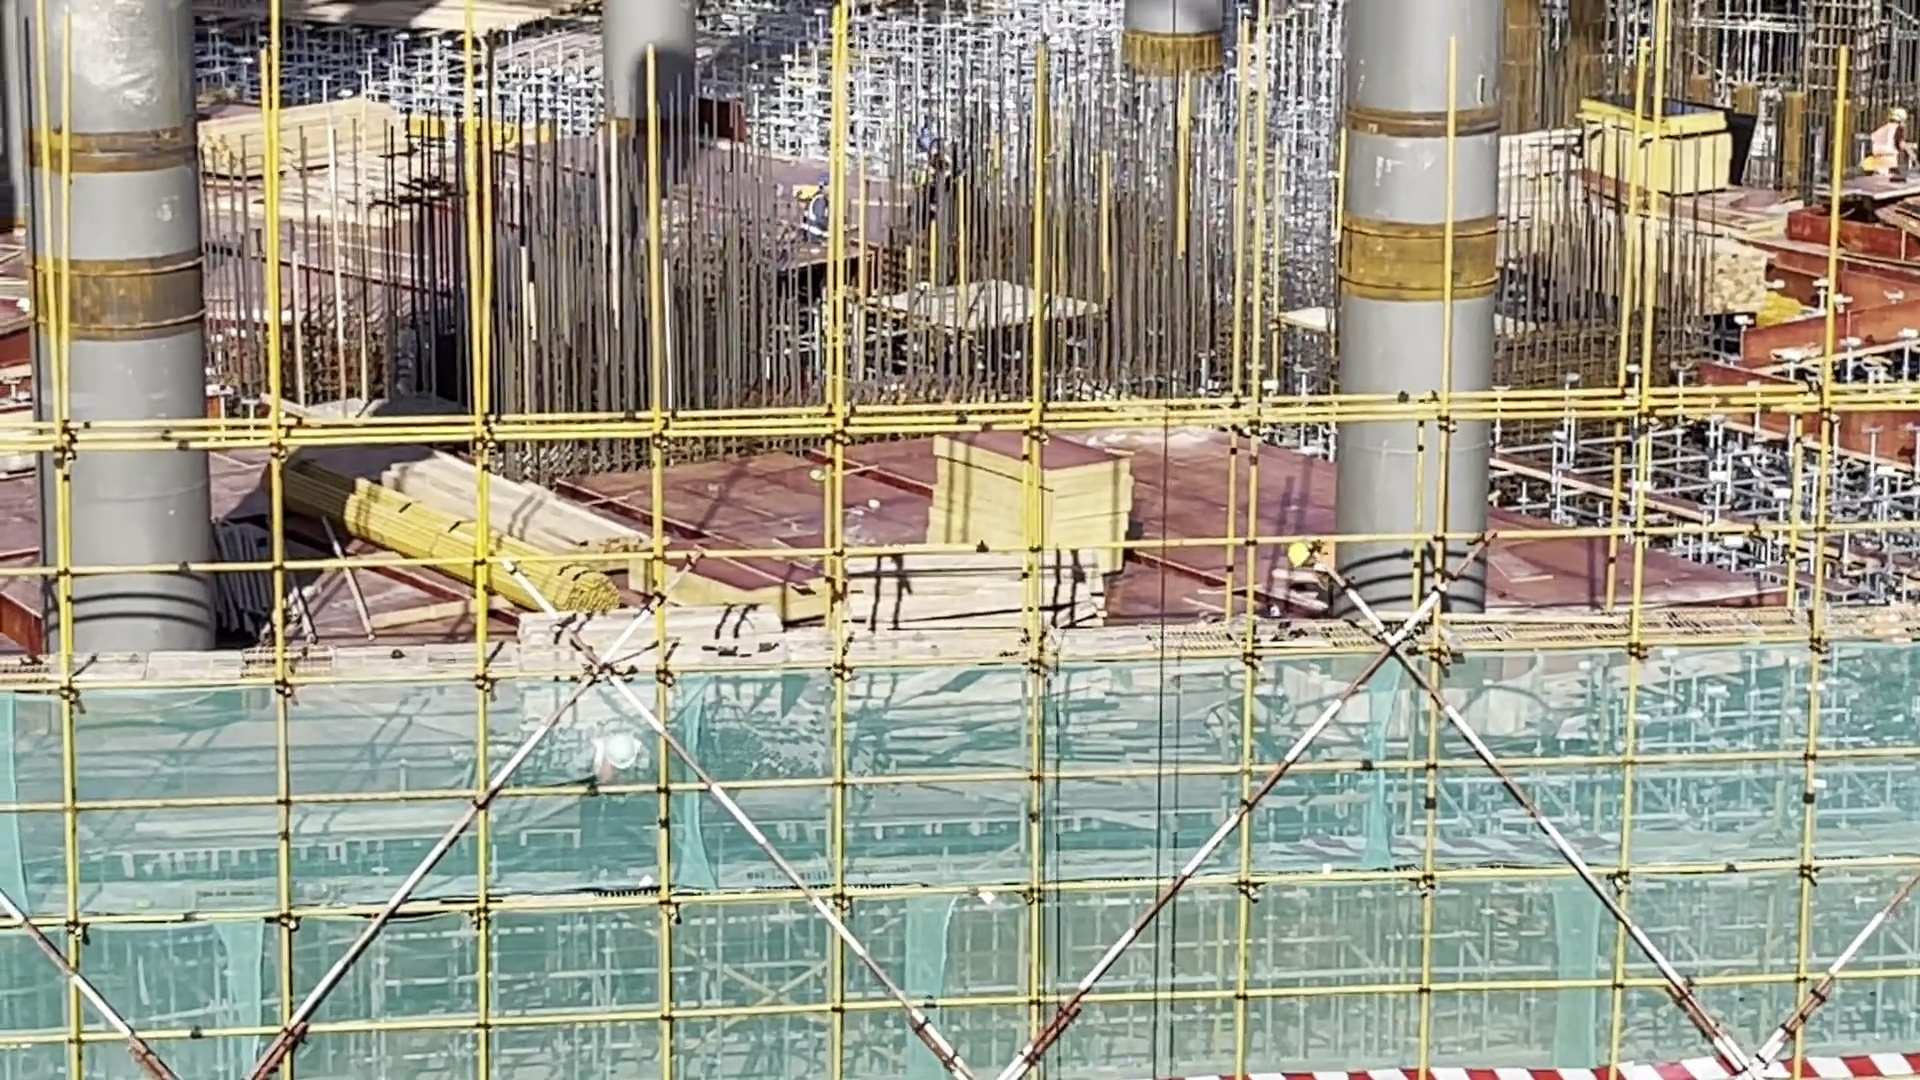board: (928, 431, 1127, 554)
wood: (345, 450, 644, 629), (843, 541, 1116, 640), (198, 103, 404, 169), (1697, 255, 1767, 322)
